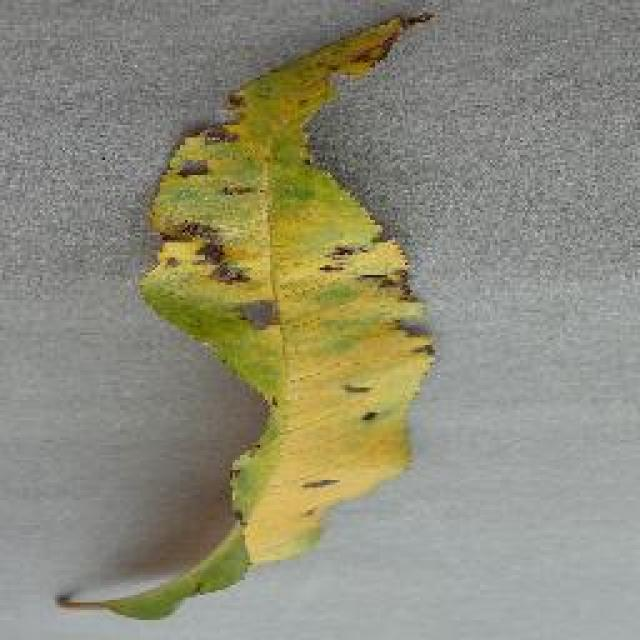Peach_Bacterial_Spot: (172, 60, 445, 448)
